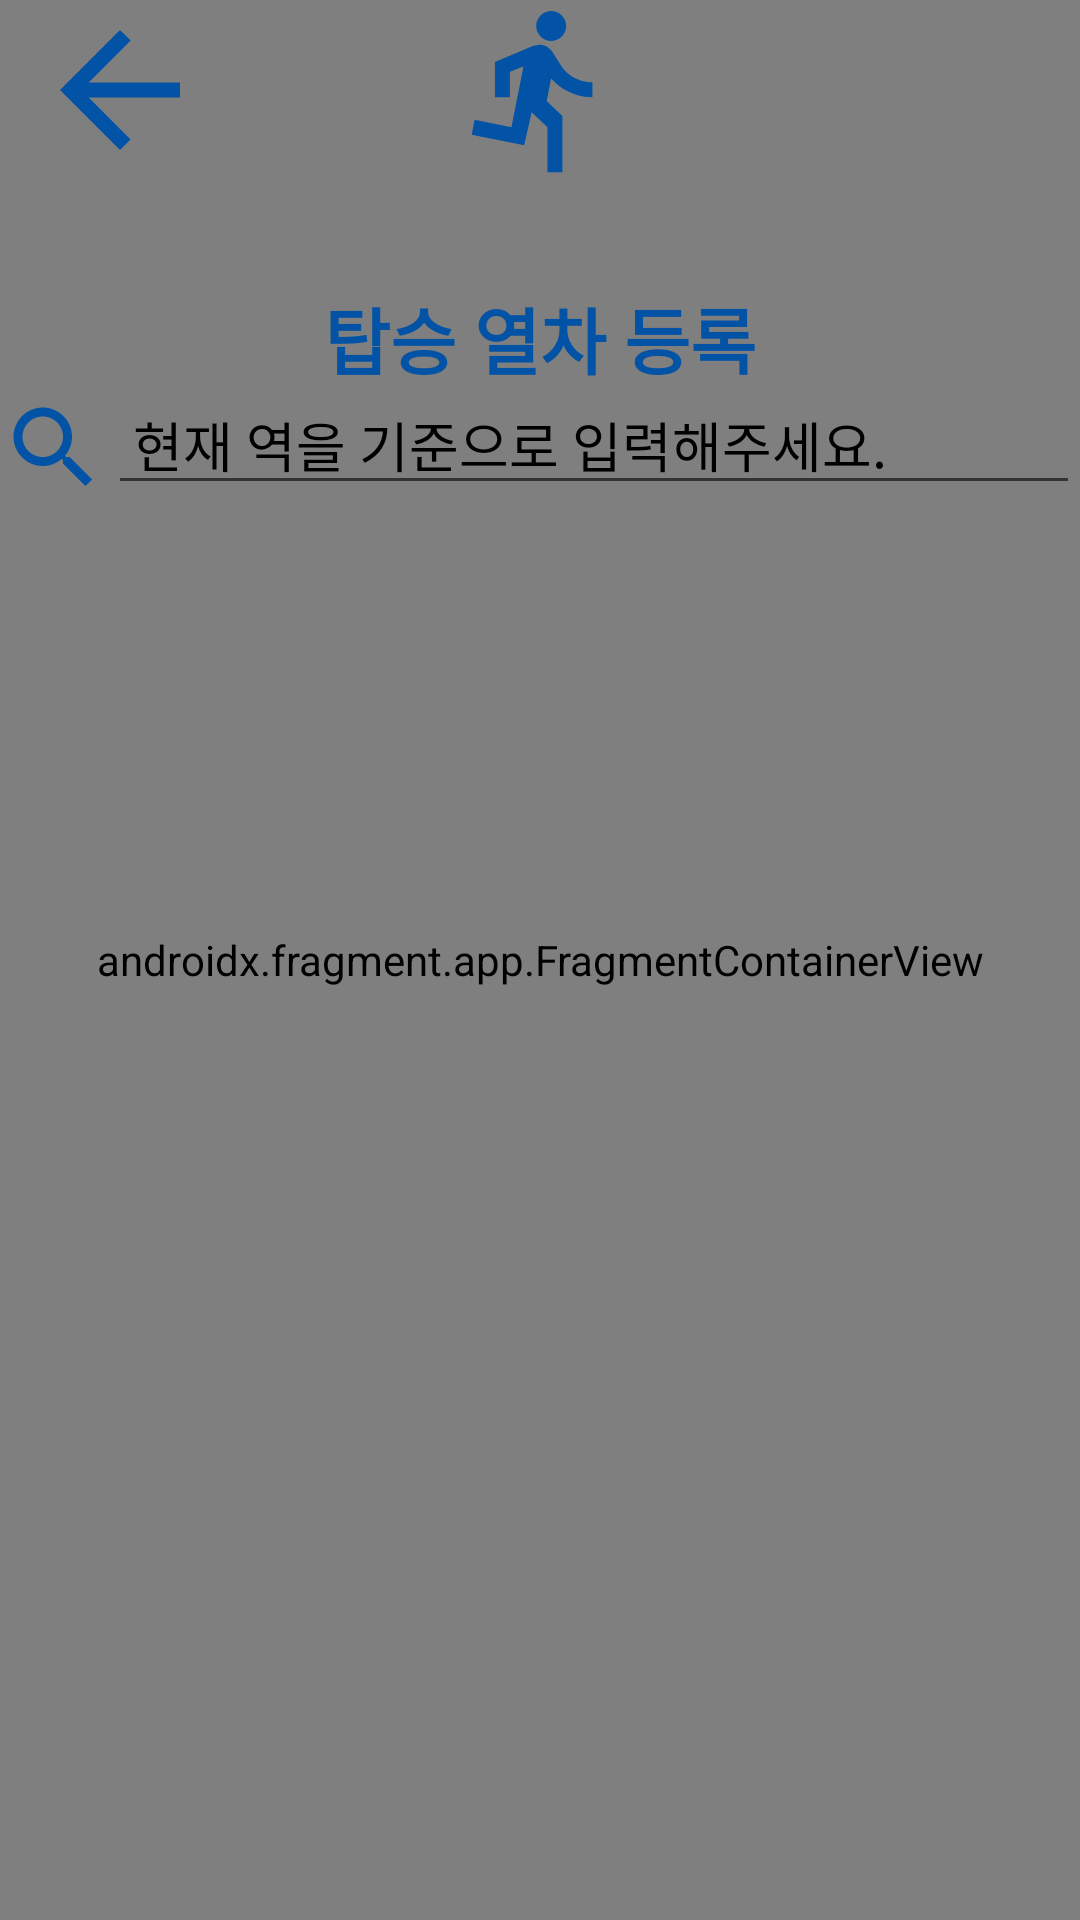

Screen size 1080 × 1920. Icon name, then its center in pixels as (x=x, y=y):
directions run: (x=532, y=92)
